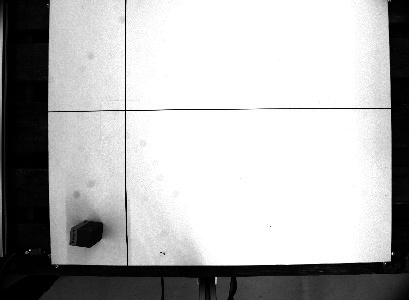b3: (66, 219, 106, 249)
